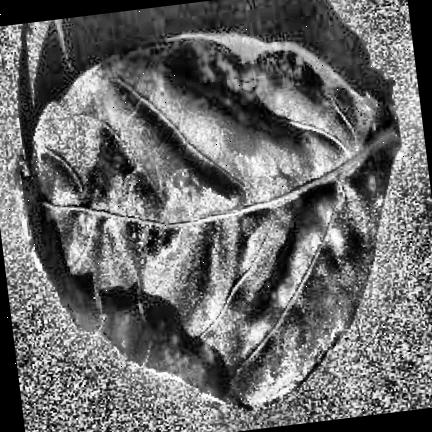leaf: (15, 33, 398, 408)
